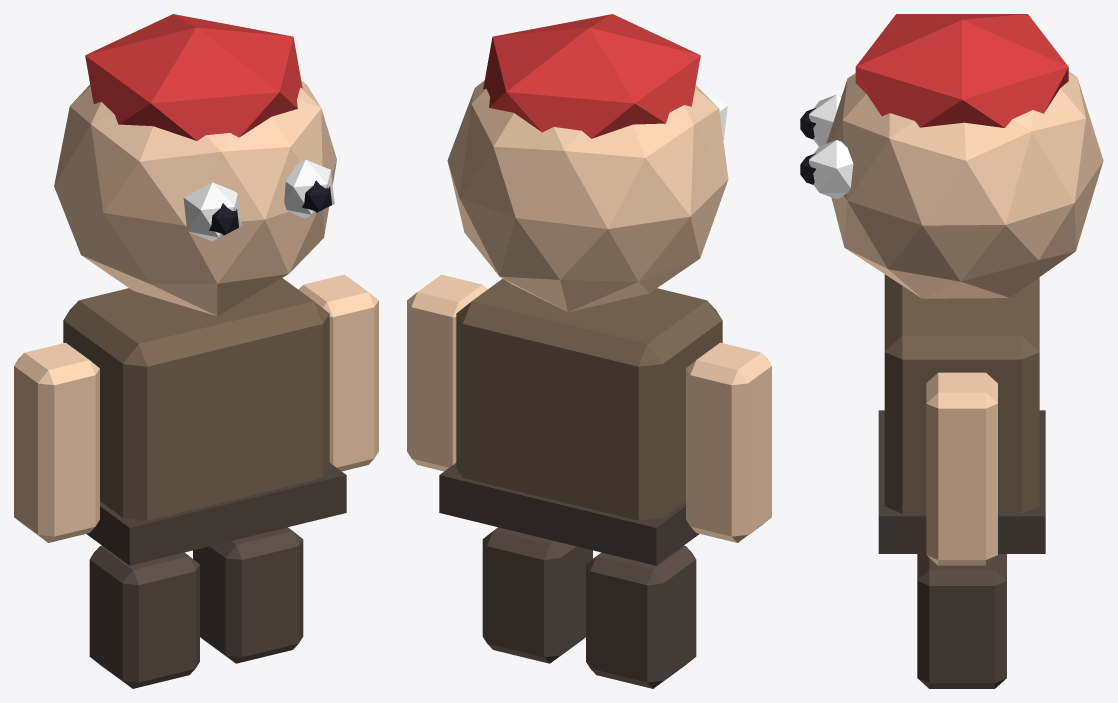
Rendered from MountainBandit.fbx.
The picture shows the model from 3 angles, left to right: view 1: azimuth 30°, elevation 25°; view 2: azimuth 150°, elevation 25°; view 3: azimuth 270°, elevation 25°; orthographic projection.
Visible parts, largest first — view 1: MountainBandit; view 2: MountainBandit; view 3: MountainBandit.
Boxes of the visible parts, box(x1,y1,x2,y2) form: MountainBandit: box(14, 14, 378, 688); MountainBandit: box(407, 14, 771, 688); MountainBandit: box(800, 14, 1103, 688).
Size of the model in its own units: 3.3 by 5.83 by 2.54.
Materials: 1 (1 with a texture image).
